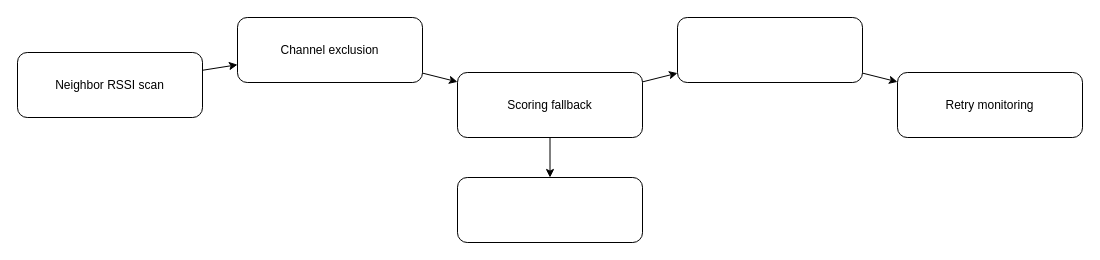
This 1100x260 diagram has some shape labels left out. Here are the shapes that lost their labels. From the top down, the centre of each, then its label:
At (x=769, y=49): "New radio channel".
At (x=549, y=209): "Channel churn".
